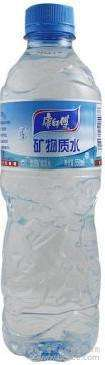amwater: (1, 1, 103, 363)
